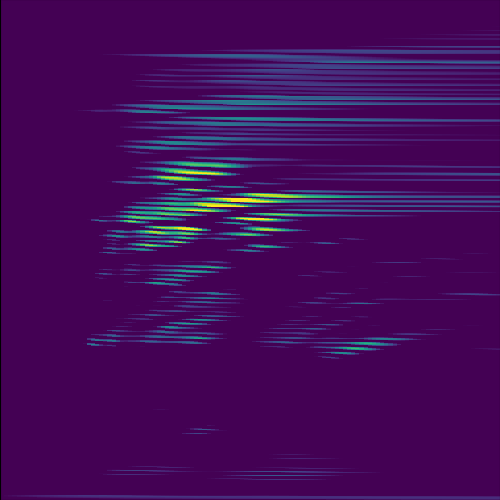semblance: (161, 190, 322, 216), (125, 161, 253, 185), (223, 213, 308, 241)
